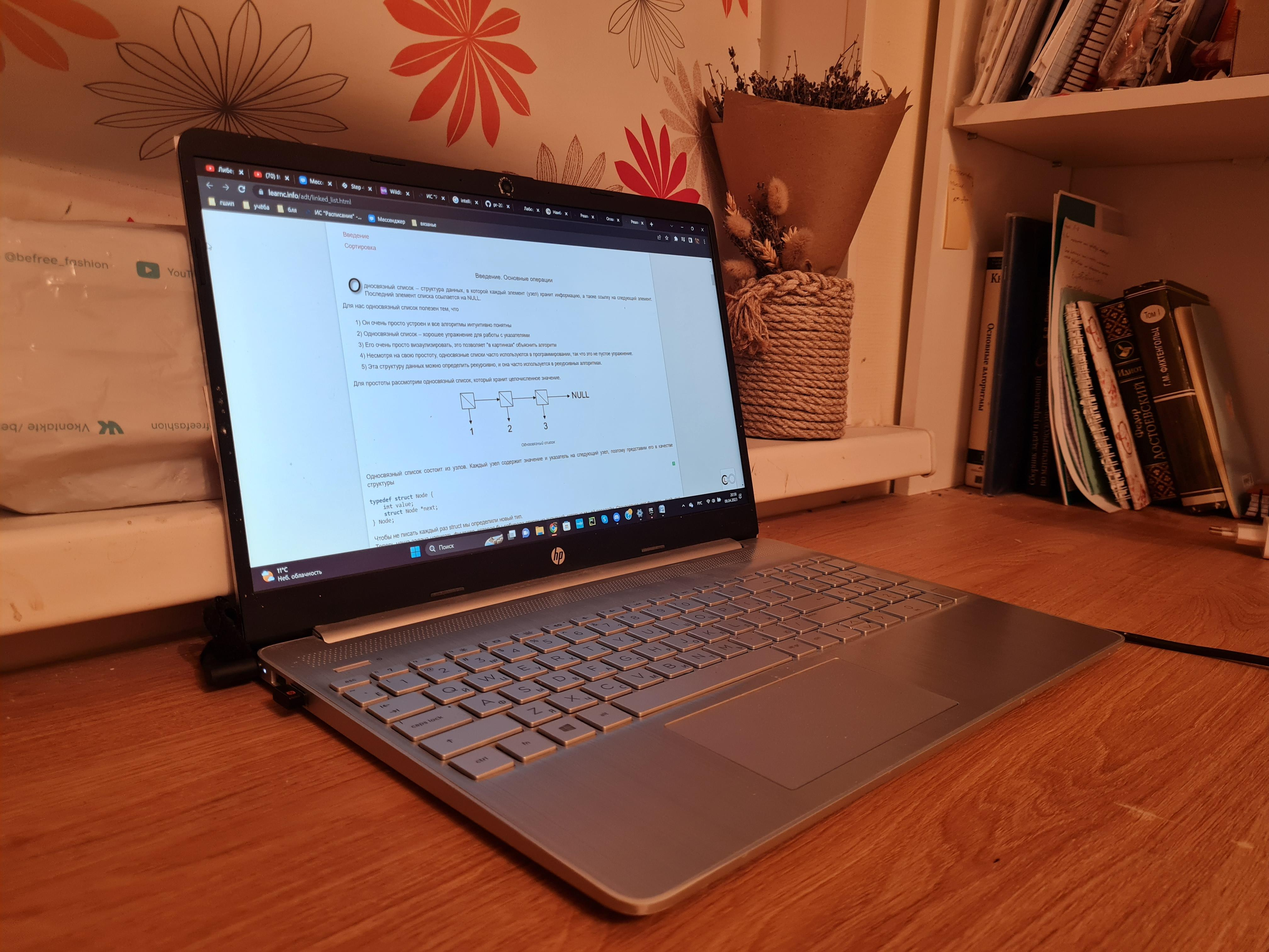monitor: (172, 125, 762, 642)
